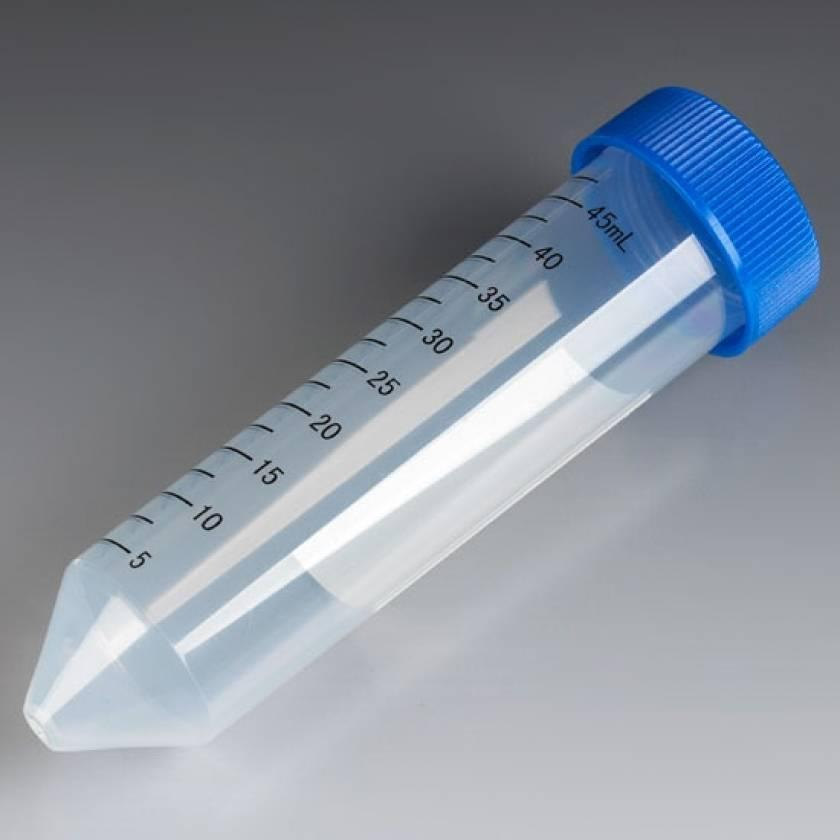Test tube: (52, 43, 817, 802)
